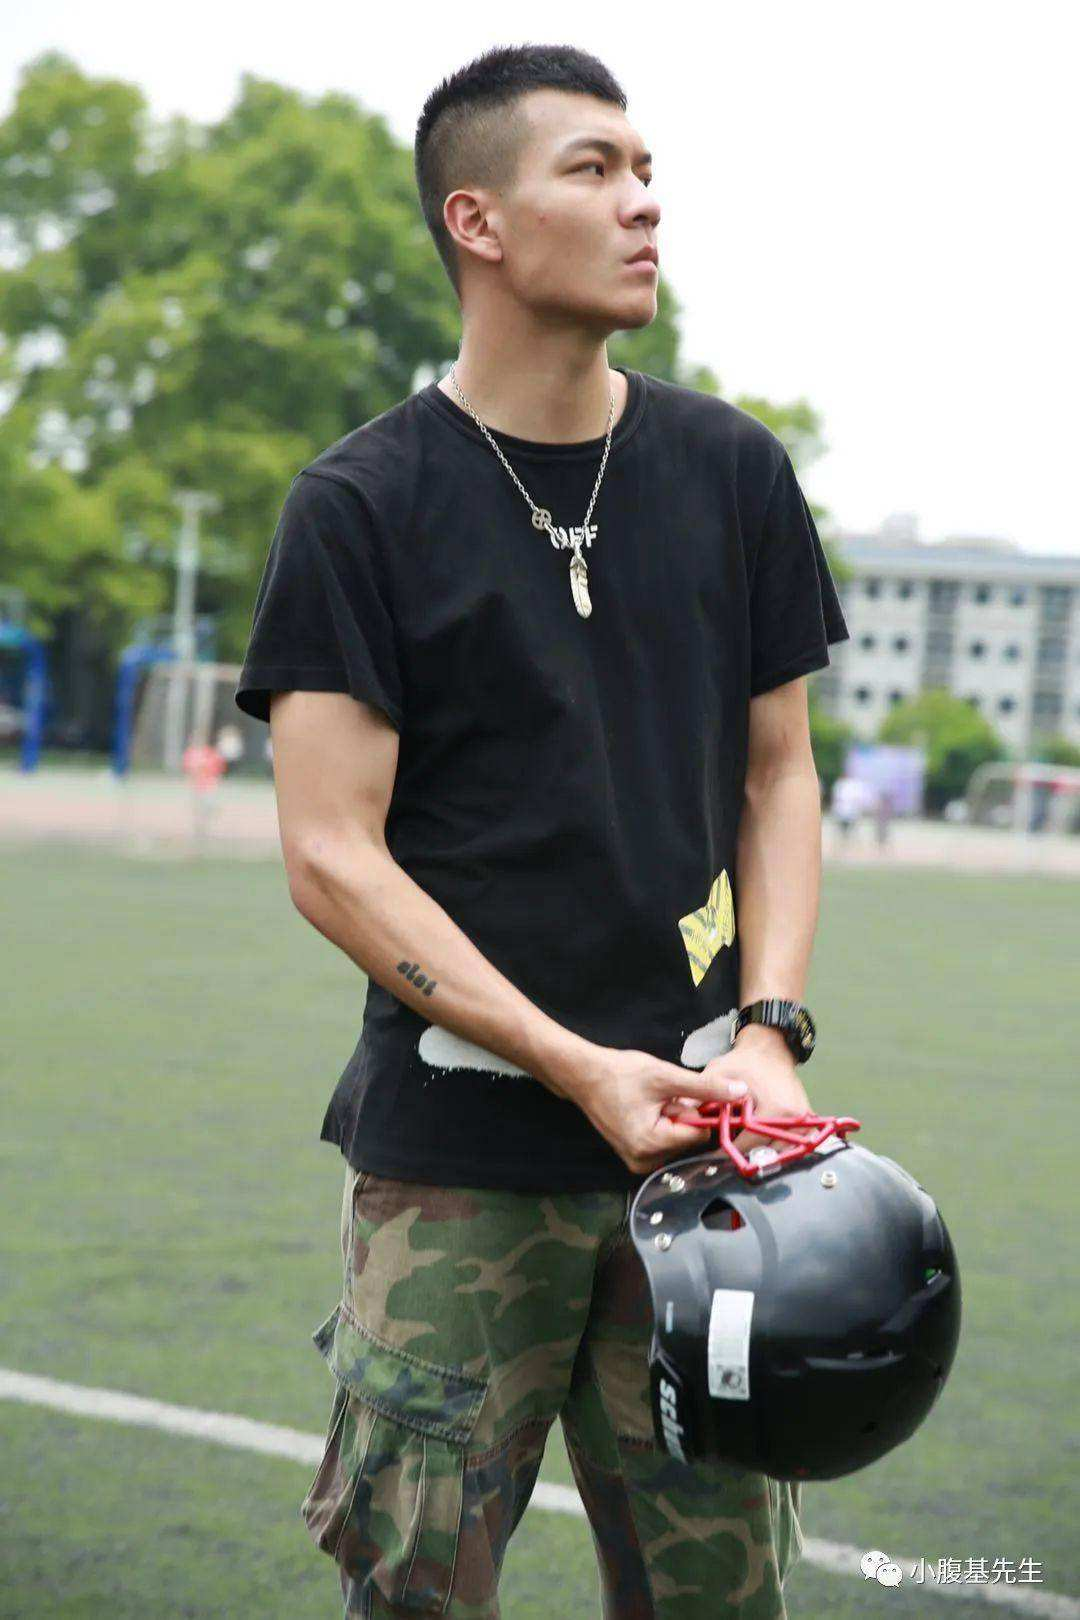person: (282, 29, 947, 1557)
